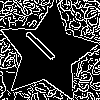I: (22, 27, 65, 70)
